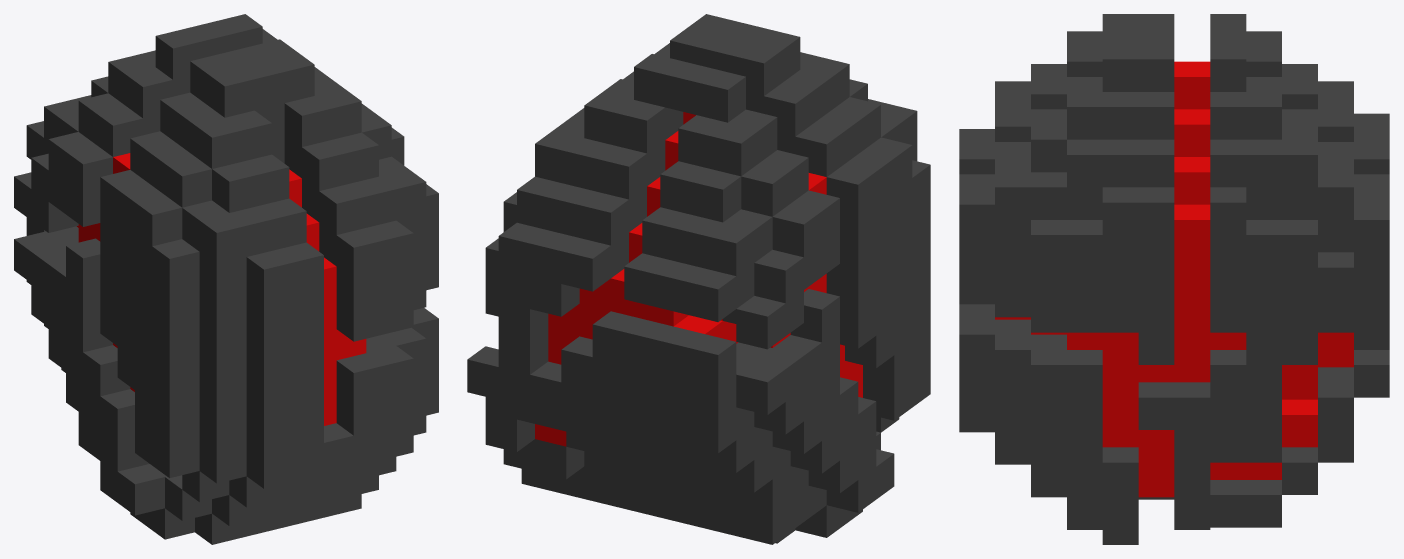
Rendered from golem-3.obj.
The picture shows the model from 3 angles, left to right: view 1: azimuth 30°, elevation 25°; view 2: azimuth 150°, elevation 25°; view 3: azimuth 270°, elevation 25°; orthographic projection. The views are drawn at different scales.
Bounding box in the file's own units: 0.9 × 1.4 × 1.2.
1 material, 1 textured.
